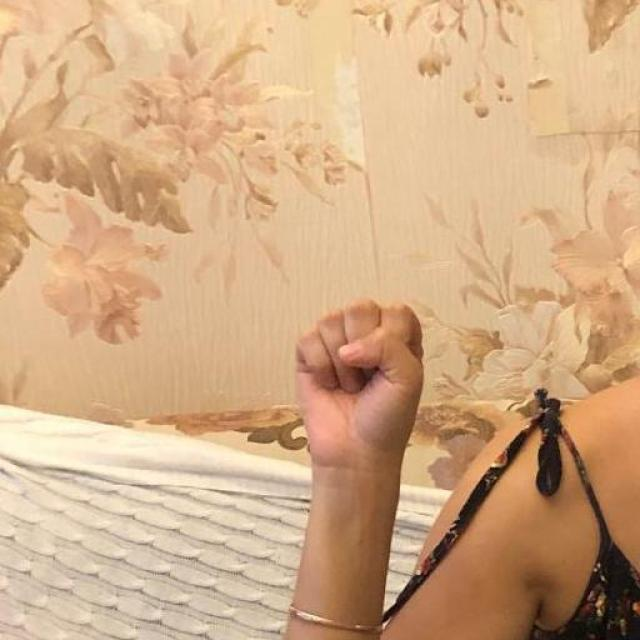hand: (293, 296, 425, 468)
